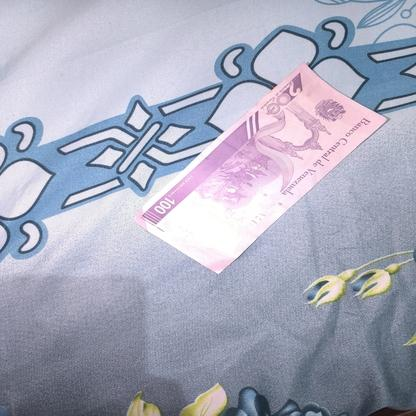one_hundred-back-vef: (132, 61, 389, 275)
